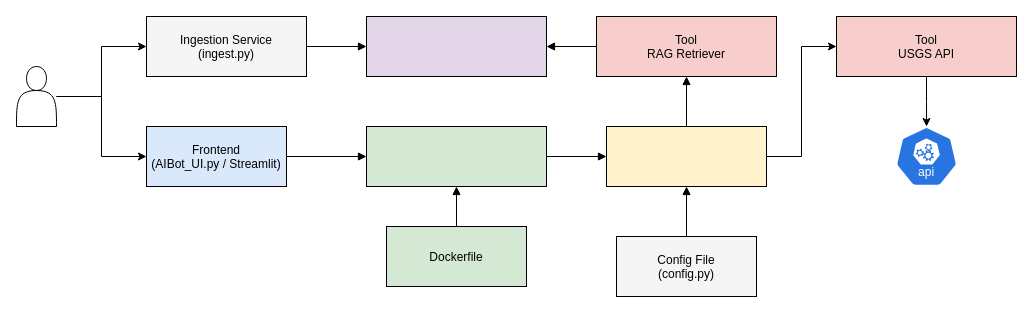
This 1033x313 diagram has some shape labels left out. Each missing label, with the centre of its shape:
"Backend (backend.py)" goes at (456,156).
"FAISS Vector Store" goes at (456,46).
"LangChain Agent (AIBot.py)" goes at (686,156).
